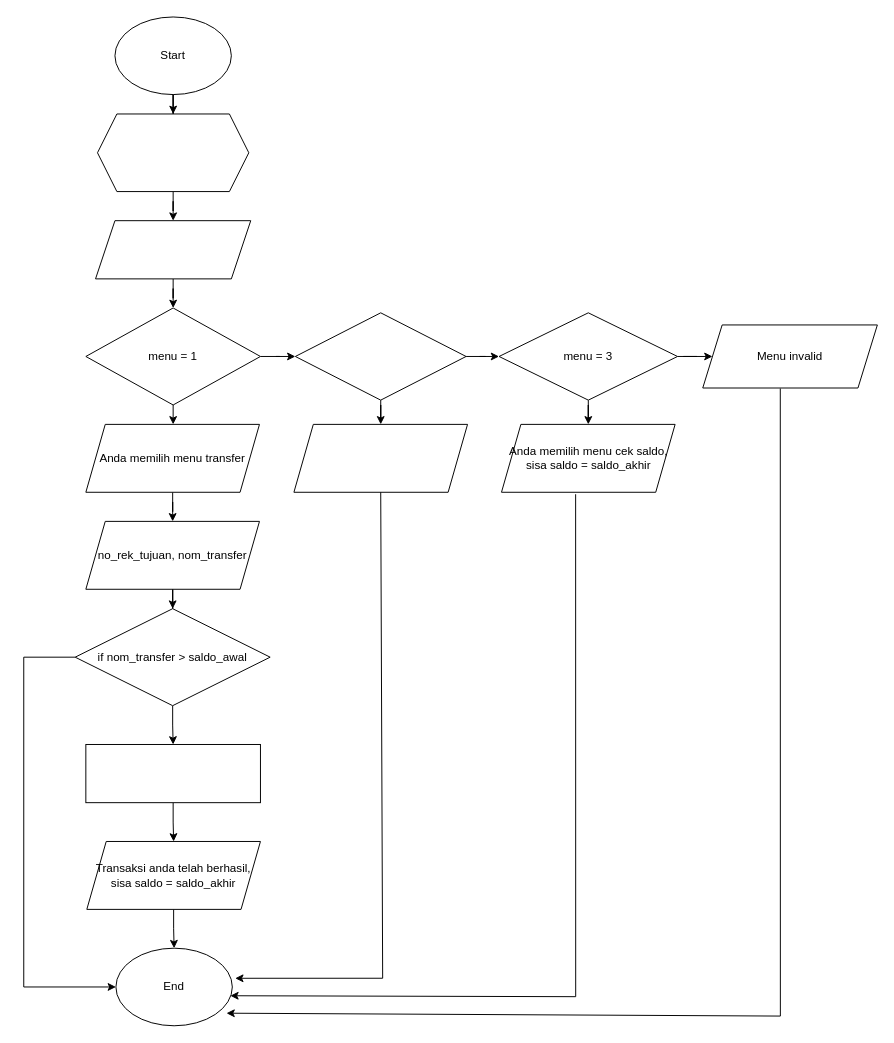
The diagram is 894 pixels wide and 1043 high, and some of its shapes have lost their labels. Each missing label, with the centre of its shape:
"Anda memilih menu tarik tunai" goes at point 380,457.
"int menu, nom_tarik, nom_transfer, saldo_awal, saldo_akhir String no_rek_tujuan" goes at point 173,152.
"menu" goes at point 173,249.
"menu = 2" goes at point 380,356.
"saldo_awal - nom_transfer" goes at point 172,773.
